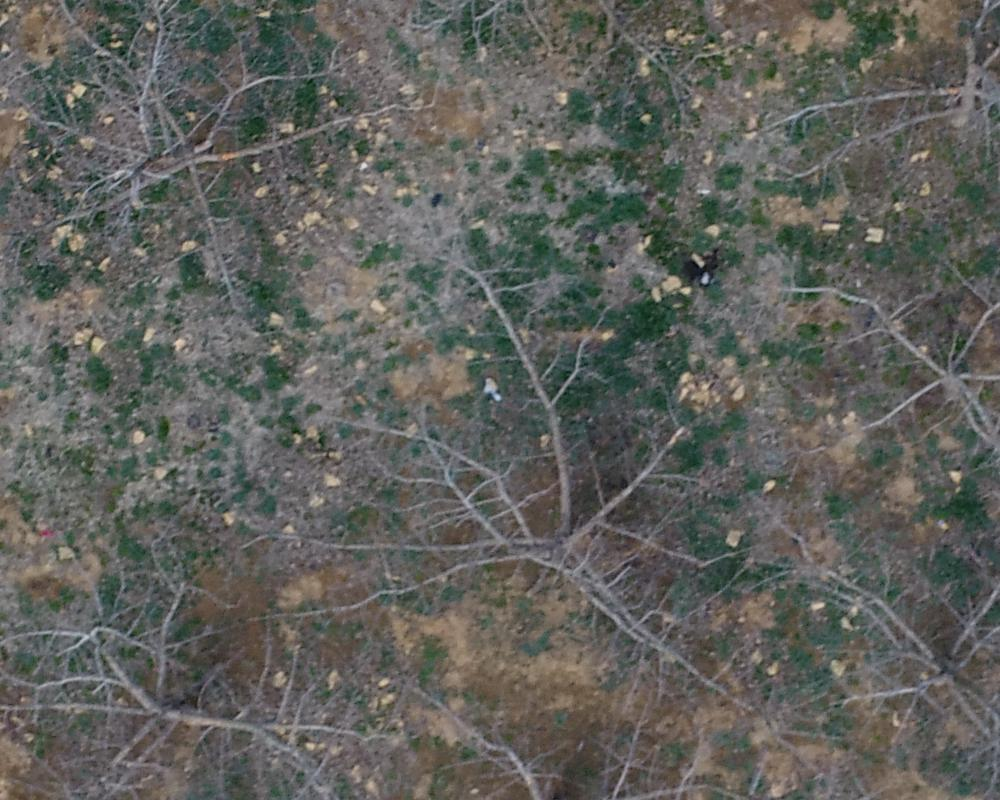apple: (351, 262, 740, 711), (10, 10, 391, 344), (10, 590, 373, 790), (801, 226, 990, 582), (747, 535, 990, 790)
